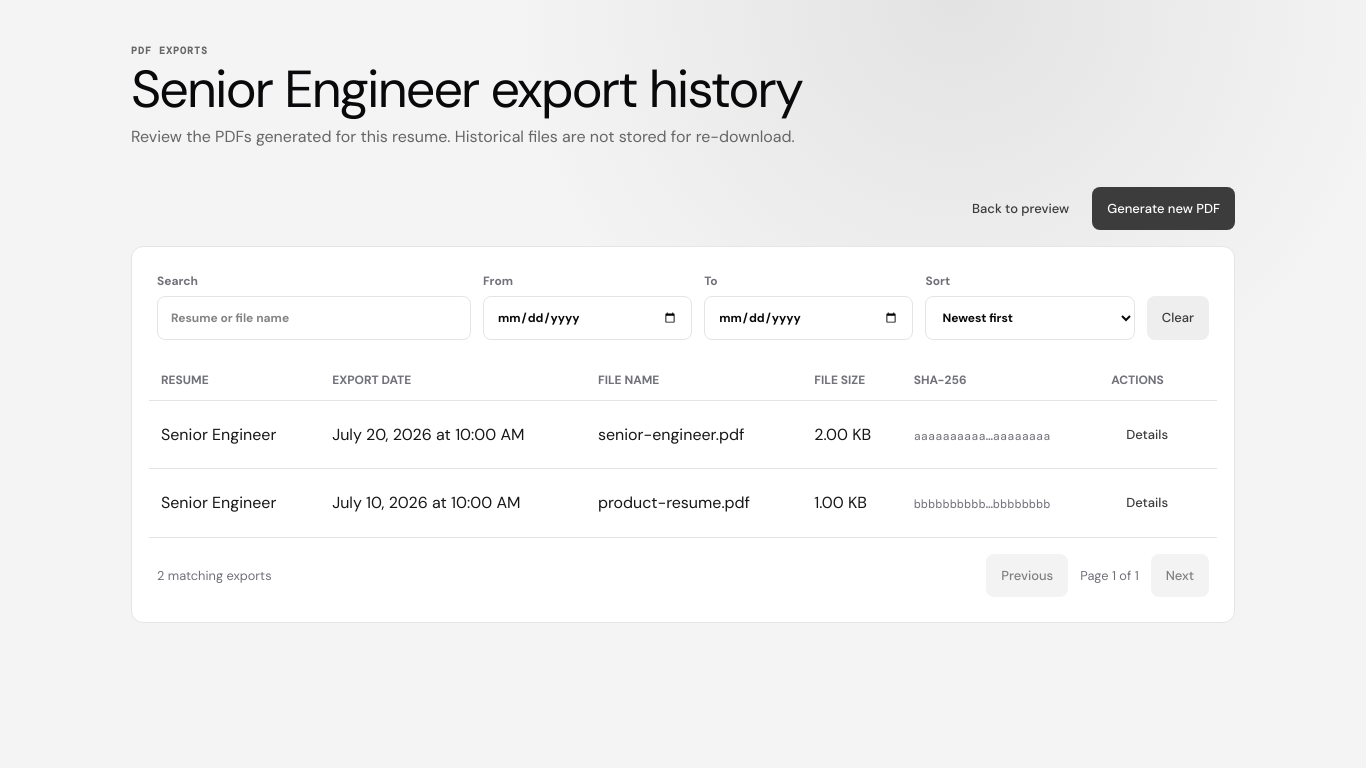
Test: PDF export history › renders history and opens complete export details
Check: the text "senior-engineer.pdf" is shown, box [586, 400, 802, 469]
Check: the text "Senior Engineer" next to "July 20, 2026 at 10:00 AM" is shown, box [161, 424, 276, 444]
Click the button with aria-label "View details for senior-engineer.pdf": (1147, 435) [1111, 413, 1183, 456]
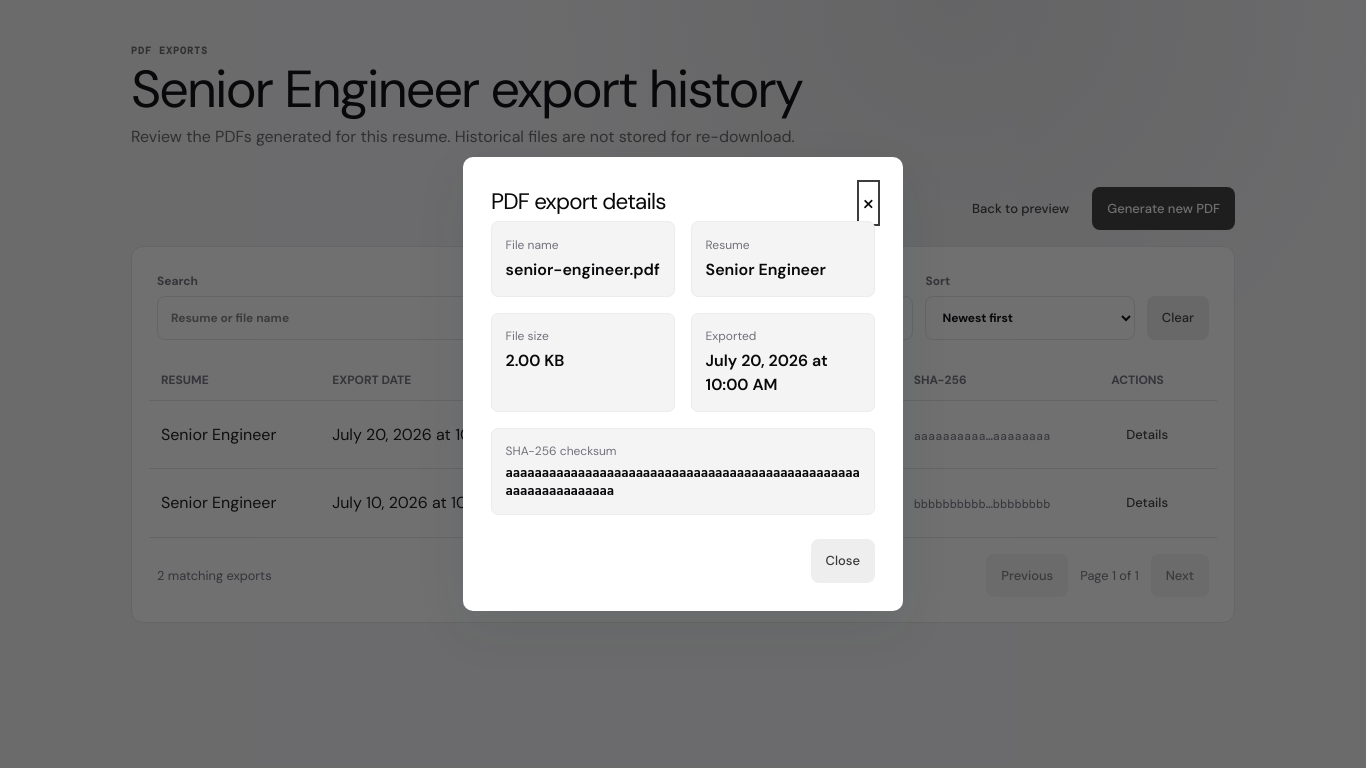
Check: the dialog "PDF export details" is shown, box [463, 158, 903, 611]
